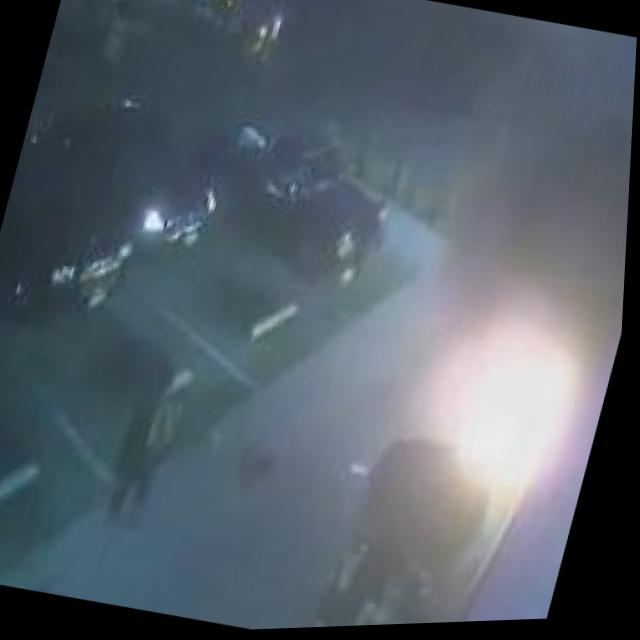fire: (411, 302, 607, 524)
